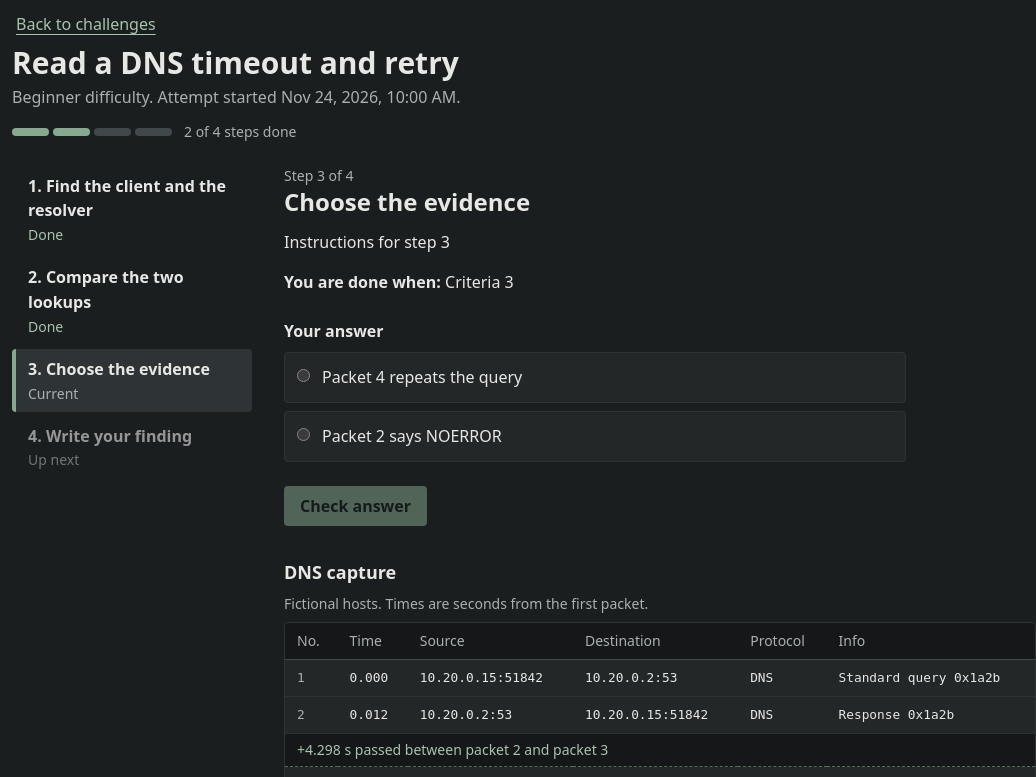
Test: Workspace: knowledge check › needs a choice, explains a wrong answer, and advances on the right one
Check: the button "Check answer" is disabled, box [284,486,427,526]
Click the radio button labelled "Packet 2 says NOERROR": point(304, 434) [297,428,310,441]
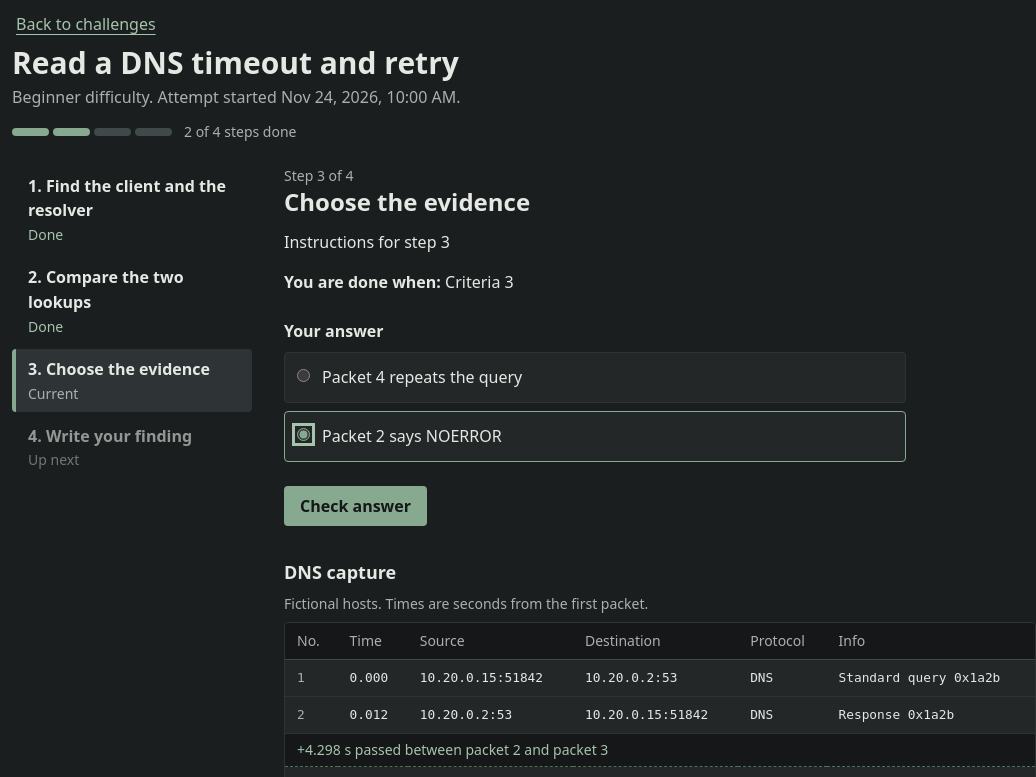
Click the button "Check answer": point(356, 506) [284,486,427,526]
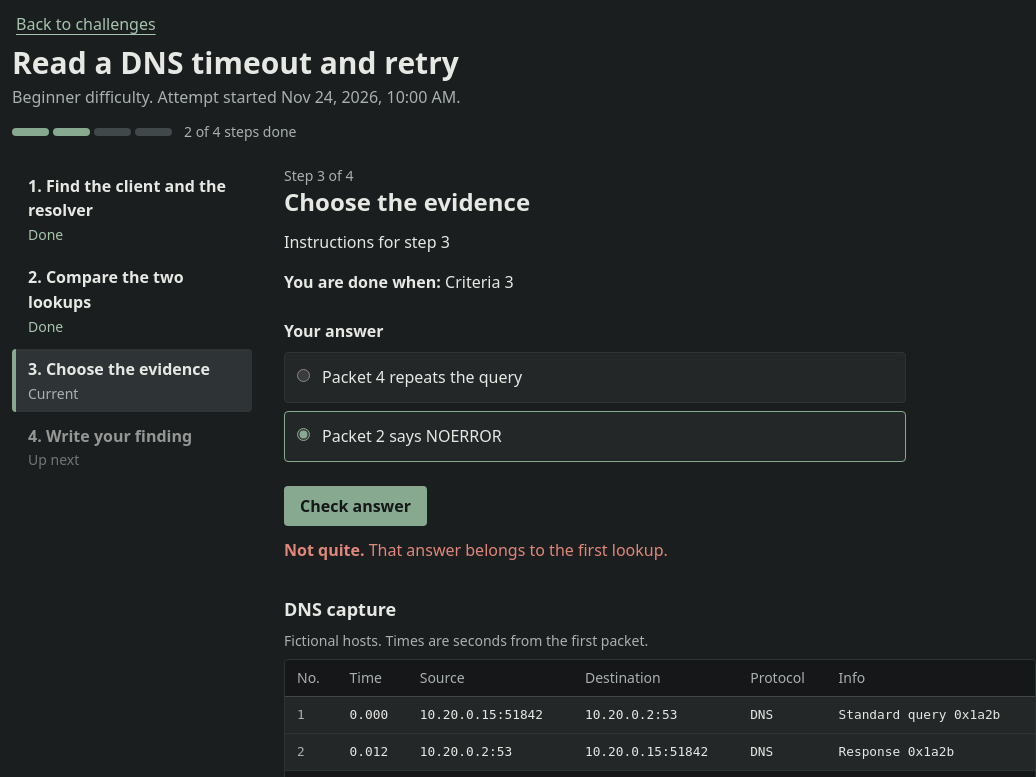
Check: the heading "Choose the evidence" is shown, box [284,185,530,218]
Check: the text "Not quite." is shown, box [284,539,364,561]
Check: the text "Not quite. That answer belongs to the first lookup." is shown, box [284,539,668,561]
Click the radio button labelled "Packet 4 repeats the query": point(304, 376) [297,369,310,382]
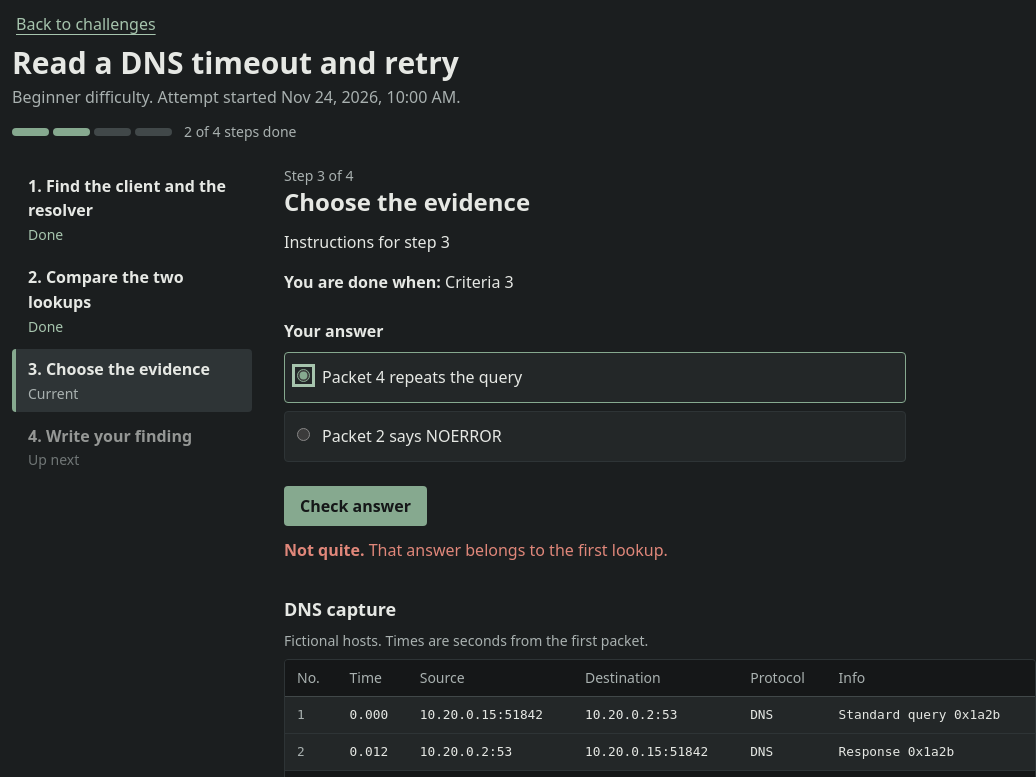
Click the button "Check answer": point(356, 506) [284,486,427,526]
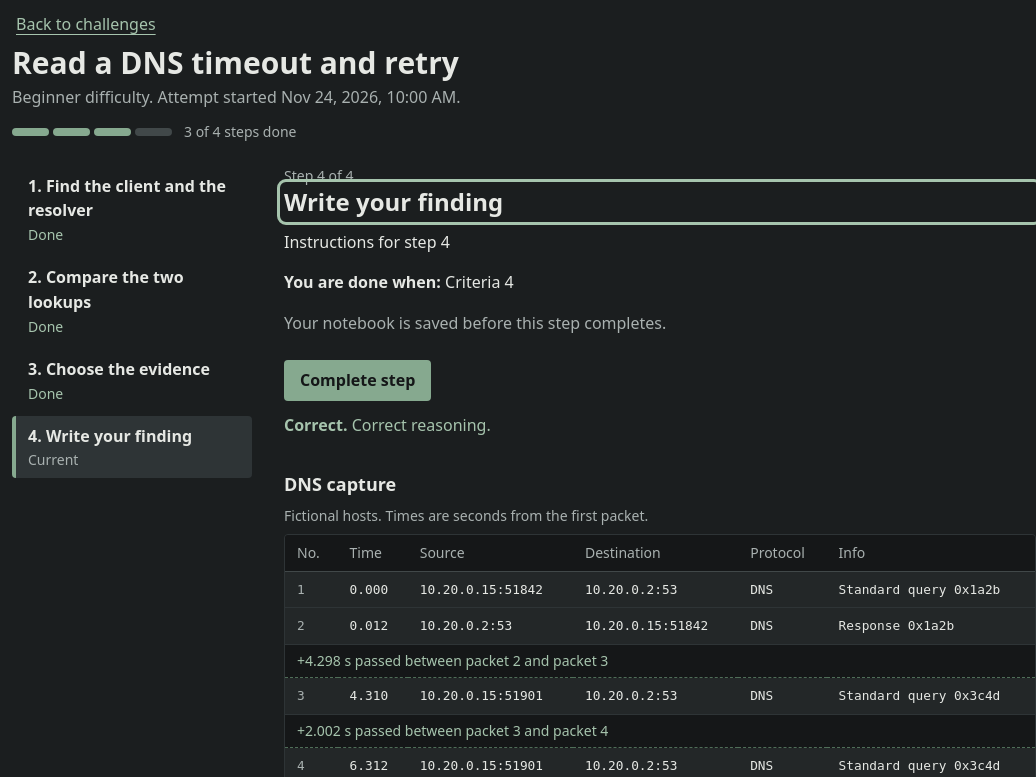
Check: the heading "Write your finding" is shown, box [284,185,503,218]
